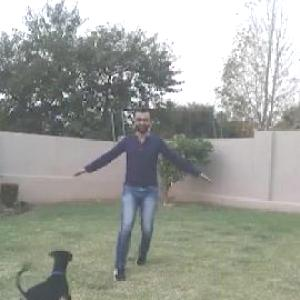land: (69, 79, 230, 295)
